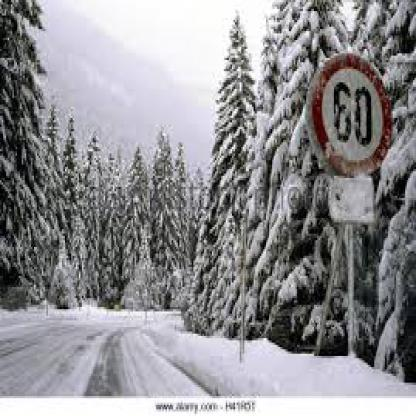Speed Limit 60: (316, 51, 392, 175)
